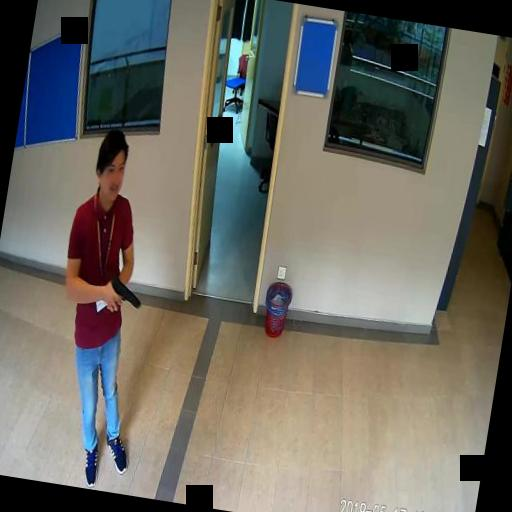Handgun: (105, 275, 142, 313)
